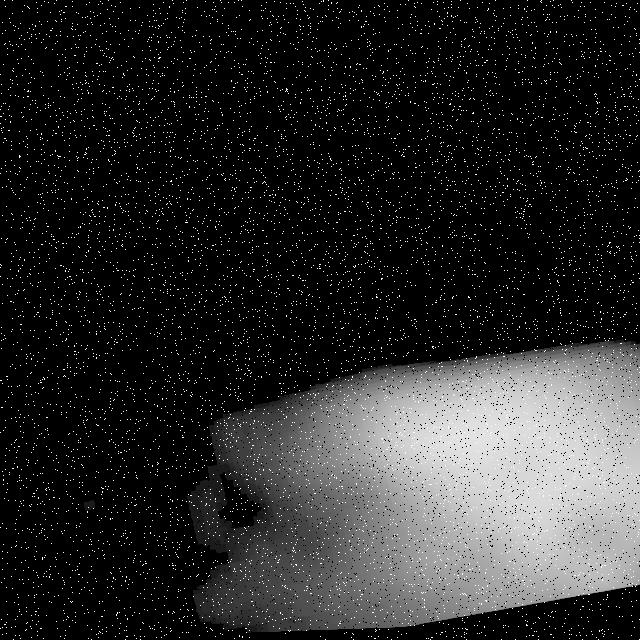person: (217, 325, 640, 635)
